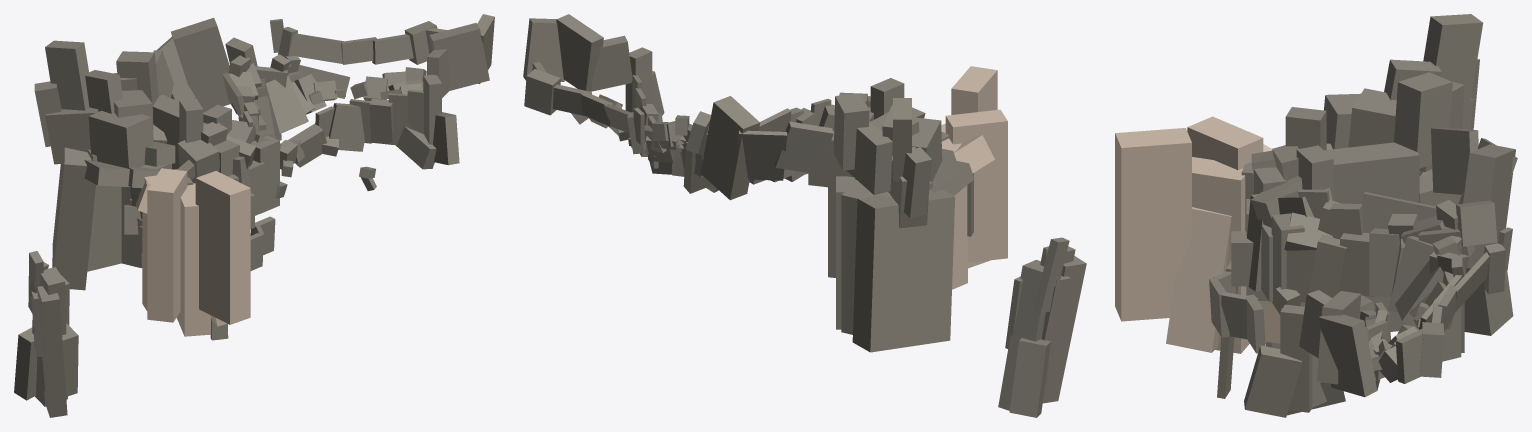
The model's file is p_HubWalls.fbx.
3 renders of one model, left to right at view 1: azimuth 30°, elevation 25°; view 2: azimuth 150°, elevation 25°; view 3: azimuth 270°, elevation 25°, orthographic. The views are drawn at different scales.
Visible parts, largest first — view 1: HUBcurveClean, Wall_hub__90_, Wall_hub__91_, Wall_hub__96_, Wall_hub__53_, Wall_hub__88_, Wall_hub__126_, Wall_hub__119_, Wall_hub__40_, Wall_hub__92_, Wall_hub__132_, Wall_hub__127_ (+43 smaller); view 2: Wall_hub__96_, Wall_hub__91_, Wall_hub__53_, HUBcurveClean, Wall_hub__118_, Wall_hub__40_, Wall_hub__125_, Wall_hub__119_, Wall_hub__92_, Wall_hub__130_, Wall_hub__52_, Wall_hub__131_ (+22 smaller); view 3: HUBcurveClean, Wall_hub__90_, Wall_hub__76_, Wall_hub__93_, Wall_hub__131_, Wall_hub__132_, Wall_hub__88_, Wall_hub__39_, Wall_hub__53_, Wall_hub__69_, Wall_hub__91_, Wall_hub__52_ (+33 smaller).
Part boxes in pixels (x1,y1,x2,y2): HUBcurveClean: (222, 55, 326, 215); Wall_hub__90_: (195, 171, 250, 324); Wall_hub__91_: (147, 168, 187, 322); Wall_hub__96_: (52, 147, 95, 290); Wall_hub__53_: (171, 17, 229, 112); Wall_hub__88_: (176, 183, 210, 336); Wall_hub__126_: (88, 111, 153, 168); Wall_hub__119_: (37, 286, 67, 417); Wall_hub__40_: (429, 23, 489, 90); Wall_hub__92_: (87, 185, 121, 271); Wall_hub__132_: (45, 40, 89, 110); Wall_hub__127_: (45, 107, 98, 164); Wall_hub__96_: (852, 190, 954, 352); Wall_hub__91_: (945, 109, 1007, 262); Wall_hub__53_: (700, 96, 760, 200); HUBcurveClean: (645, 99, 834, 193); Wall_hub__118_: (998, 259, 1045, 410); Wall_hub__40_: (556, 14, 603, 91); Wall_hub__125_: (1009, 338, 1050, 417); Wall_hub__119_: (1042, 256, 1086, 403); Wall_hub__92_: (841, 185, 891, 334); Wall_hub__130_: (846, 121, 892, 194); Wall_hub__52_: (774, 121, 833, 174); Wall_hub__131_: (834, 93, 869, 170); HUBcurveClean: (1251, 176, 1475, 329); Wall_hub__90_: (1115, 128, 1191, 321); Wall_hub__76_: (1166, 207, 1231, 352); Wall_hub__93_: (1324, 142, 1419, 331); Wall_hub__131_: (1394, 72, 1452, 168); Wall_hub__132_: (1423, 14, 1483, 111); Wall_hub__88_: (1192, 157, 1249, 353); Wall_hub__39_: (1318, 314, 1377, 397); Wall_hub__53_: (1463, 144, 1515, 268); Wall_hub__69_: (1244, 345, 1302, 417); Wall_hub__91_: (1187, 116, 1263, 169); Wall_hub__52_: (1431, 127, 1478, 194).
Size of the model in its own units: 6339 by 3803 by 3366.
